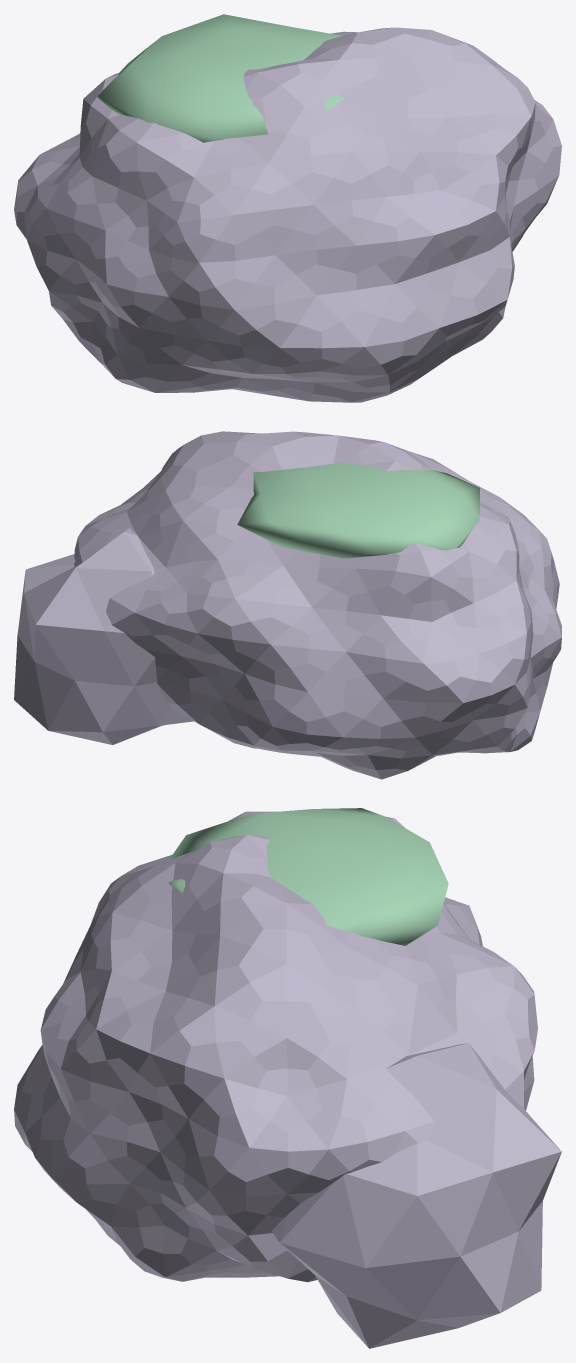
Rendered from rock.glb.
3 renders of one model, top to bottom at view 1: azimuth 30°, elevation 25°; view 2: azimuth 150°, elevation 25°; view 3: azimuth 270°, elevation 25°, orthographic. The views are drawn at different scales.
Parts seen in each view (by area): view 1: RockA, Moss; view 2: RockA, RockB, Moss; view 3: RockA, RockB, Moss.
Boxes of the visible parts, x1=… form: RockA: x1=14, y1=27, x2=561, y2=402; Moss: x1=97, y1=14, x2=344, y2=142; RockA: x1=74, y1=431, x2=561, y2=779; RockB: x1=14, y1=528, x2=193, y2=744; Moss: x1=237, y1=463, x2=480, y2=558; RockA: x1=14, y1=811, x2=537, y2=1282; RockB: x1=272, y1=1043, x2=561, y2=1348; Moss: x1=168, y1=808, x2=448, y2=945.
Size of the model in its own units: 2.75 by 1.6 by 2.12.
